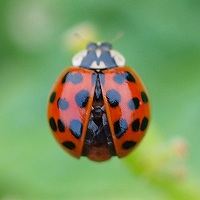Red: (45, 41, 150, 162)
